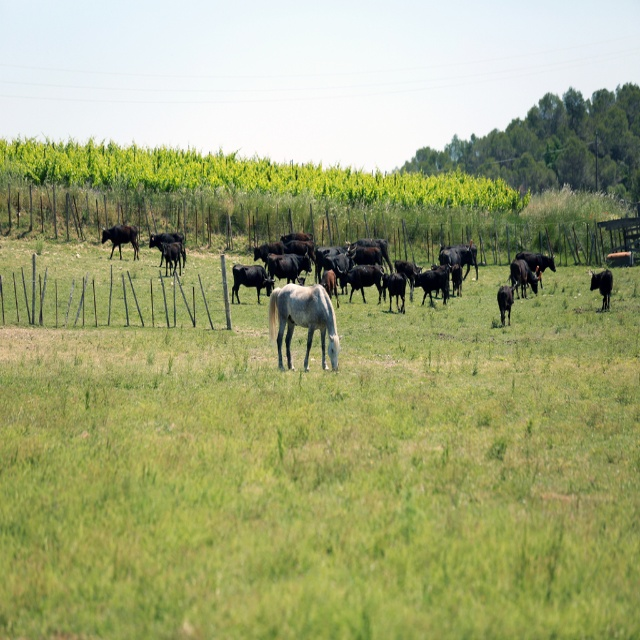Horse: (265, 280, 342, 373)
